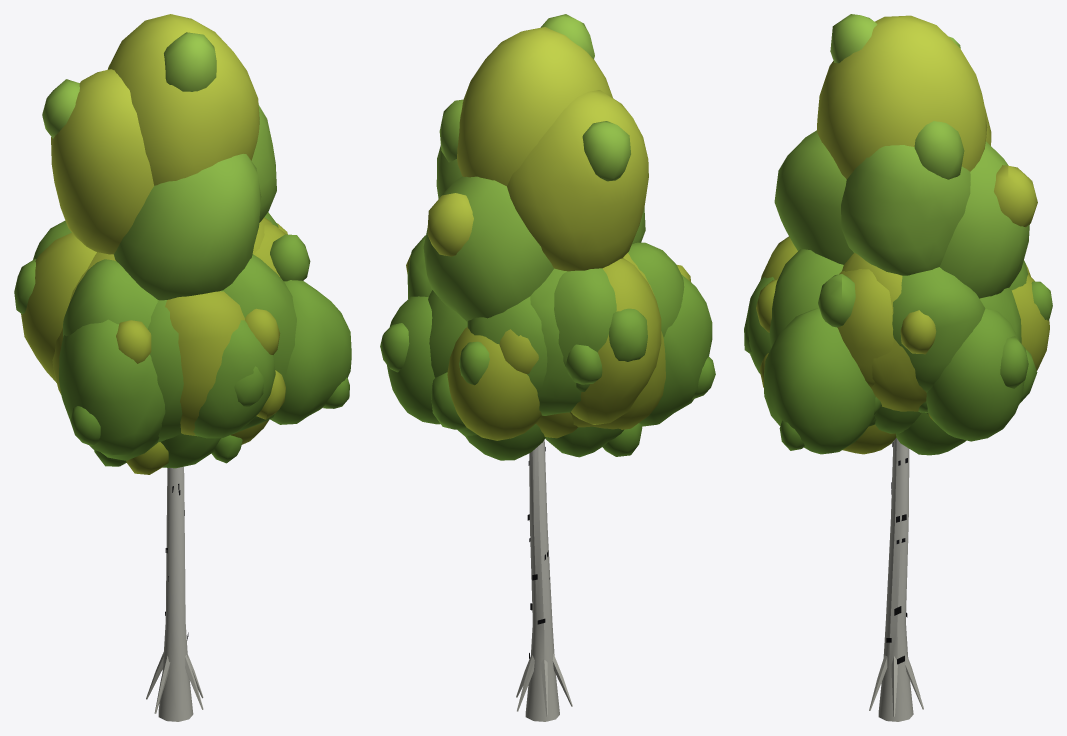
Rendered from Birch_A.fbx.
The picture shows the model from 3 angles, left to right: view 1: azimuth 30°, elevation 25°; view 2: azimuth 150°, elevation 25°; view 3: azimuth 270°, elevation 25°; orthographic projection.
Parts seen in each view (by area): view 1: Birch_A_LOD0; view 2: Birch_A_LOD0; view 3: Birch_A_LOD0.
Part boxes in pixels (x1,y1,x2,y2): Birch_A_LOD0: (14,14,351,721); Birch_A_LOD0: (380,14,715,721); Birch_A_LOD0: (744,14,1052,721).
Size of what is drawn, in the model's own units: 3.92 by 9.71 by 3.9.
Materials: 1 (1 with a texture image).
